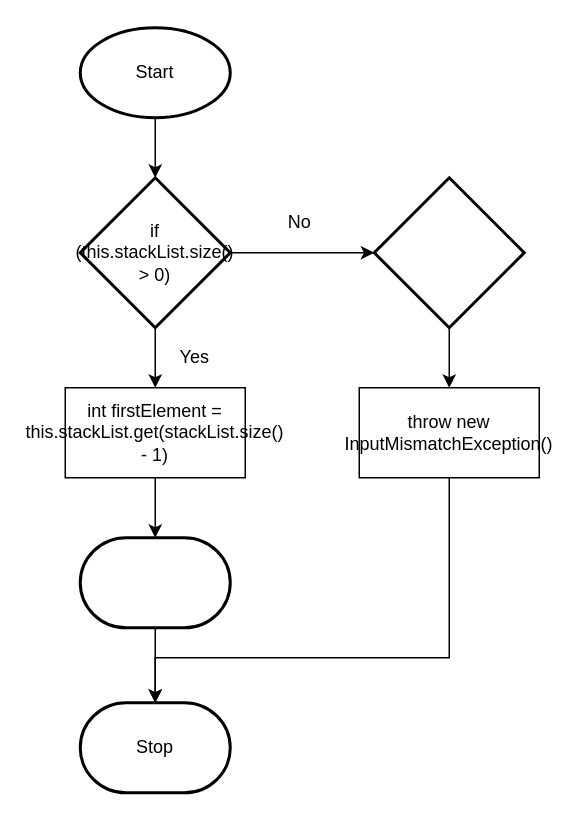
Some shapes in this 579 by 819 pixel diagram are drawn without their labels. Each missing label, with the centre of its shape:
else: point (448, 252)
return firstElement: point (154, 582)
